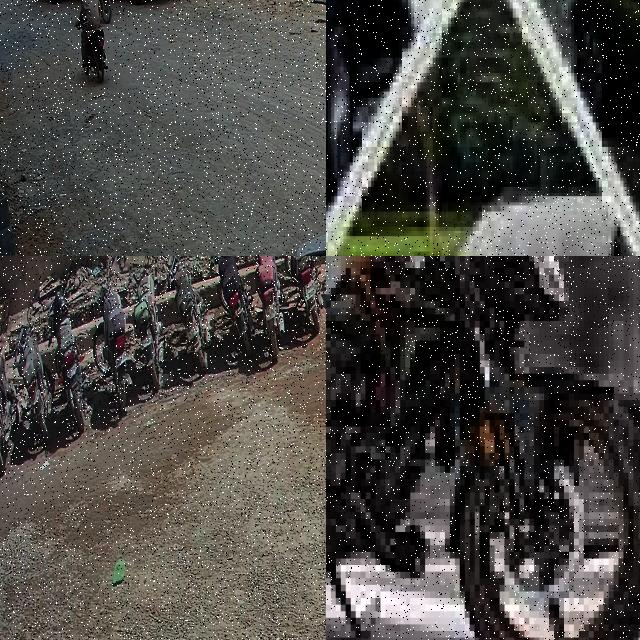bike: (326, 256, 640, 640), (48, 269, 91, 429), (15, 288, 55, 442), (92, 256, 132, 409), (165, 256, 211, 371), (125, 256, 164, 389), (213, 256, 254, 356), (278, 256, 323, 333), (252, 256, 285, 359), (89, 29, 109, 87), (99, 0, 112, 23)
car: (326, 0, 406, 213), (568, 0, 640, 214)
